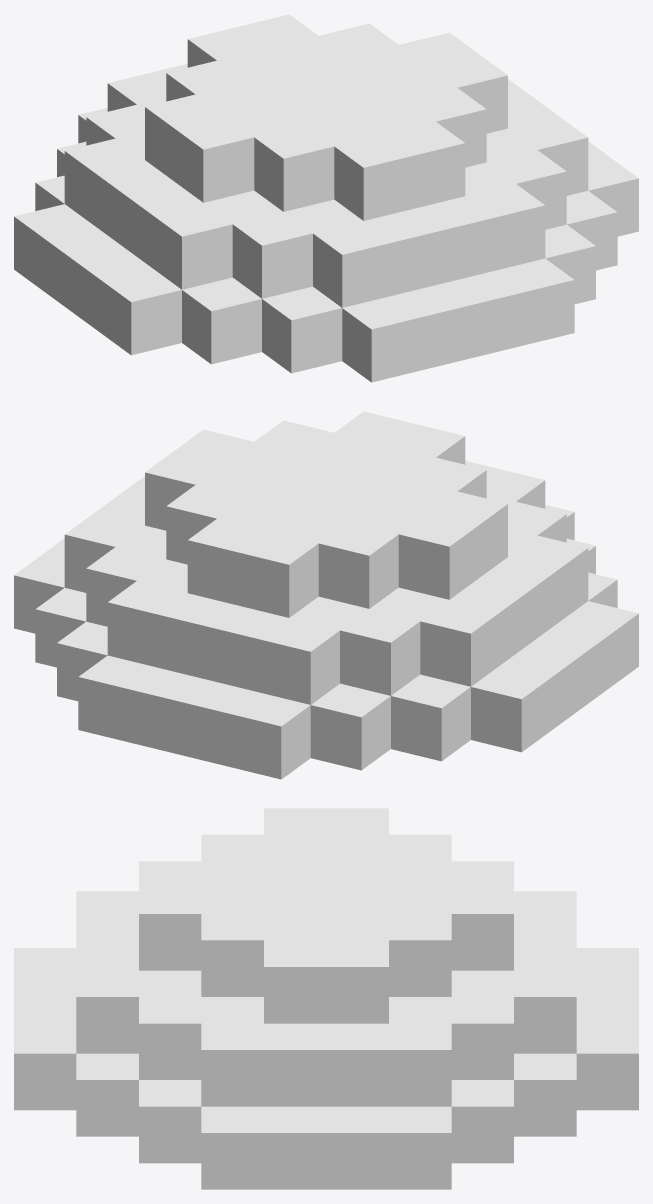
Rendered from PushButton.vox-0.obj.
3 renders of one model, top to bottom at view 1: azimuth 30°, elevation 25°; view 2: azimuth 150°, elevation 25°; view 3: azimuth 270°, elevation 25°, orthographic. The views are drawn at different scales.
Size of the model in its own units: 1 by 0.3 by 1.
Materials: 1 (1 with a texture image).
